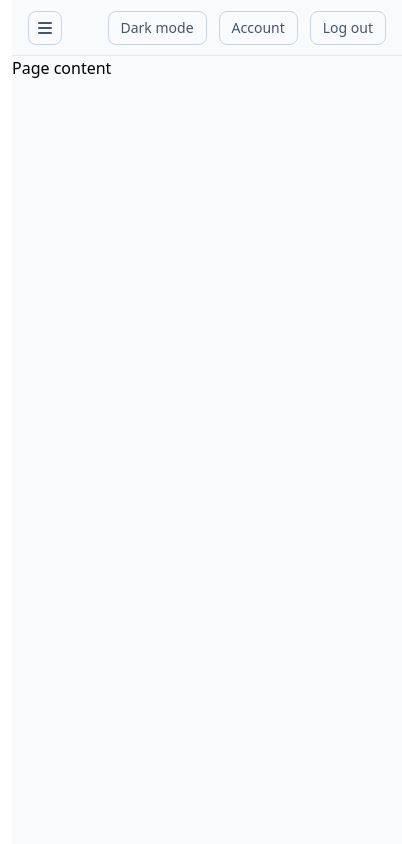
it: Layout responsive sidebar › mobile nav drawer starts closed and opens via the menu button
This screenshot has width=402, height=844.
Click the button named "Open navigation": coordinates (45, 28) 28,10 -> 62,44
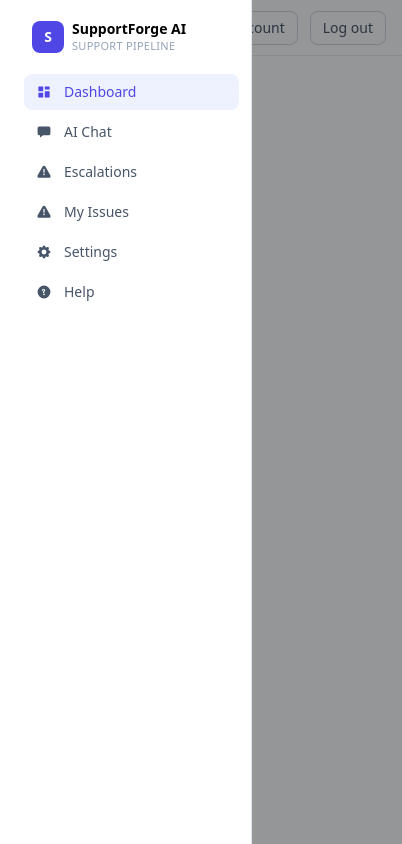
Now the text "Dashboard" is shown 2 times
